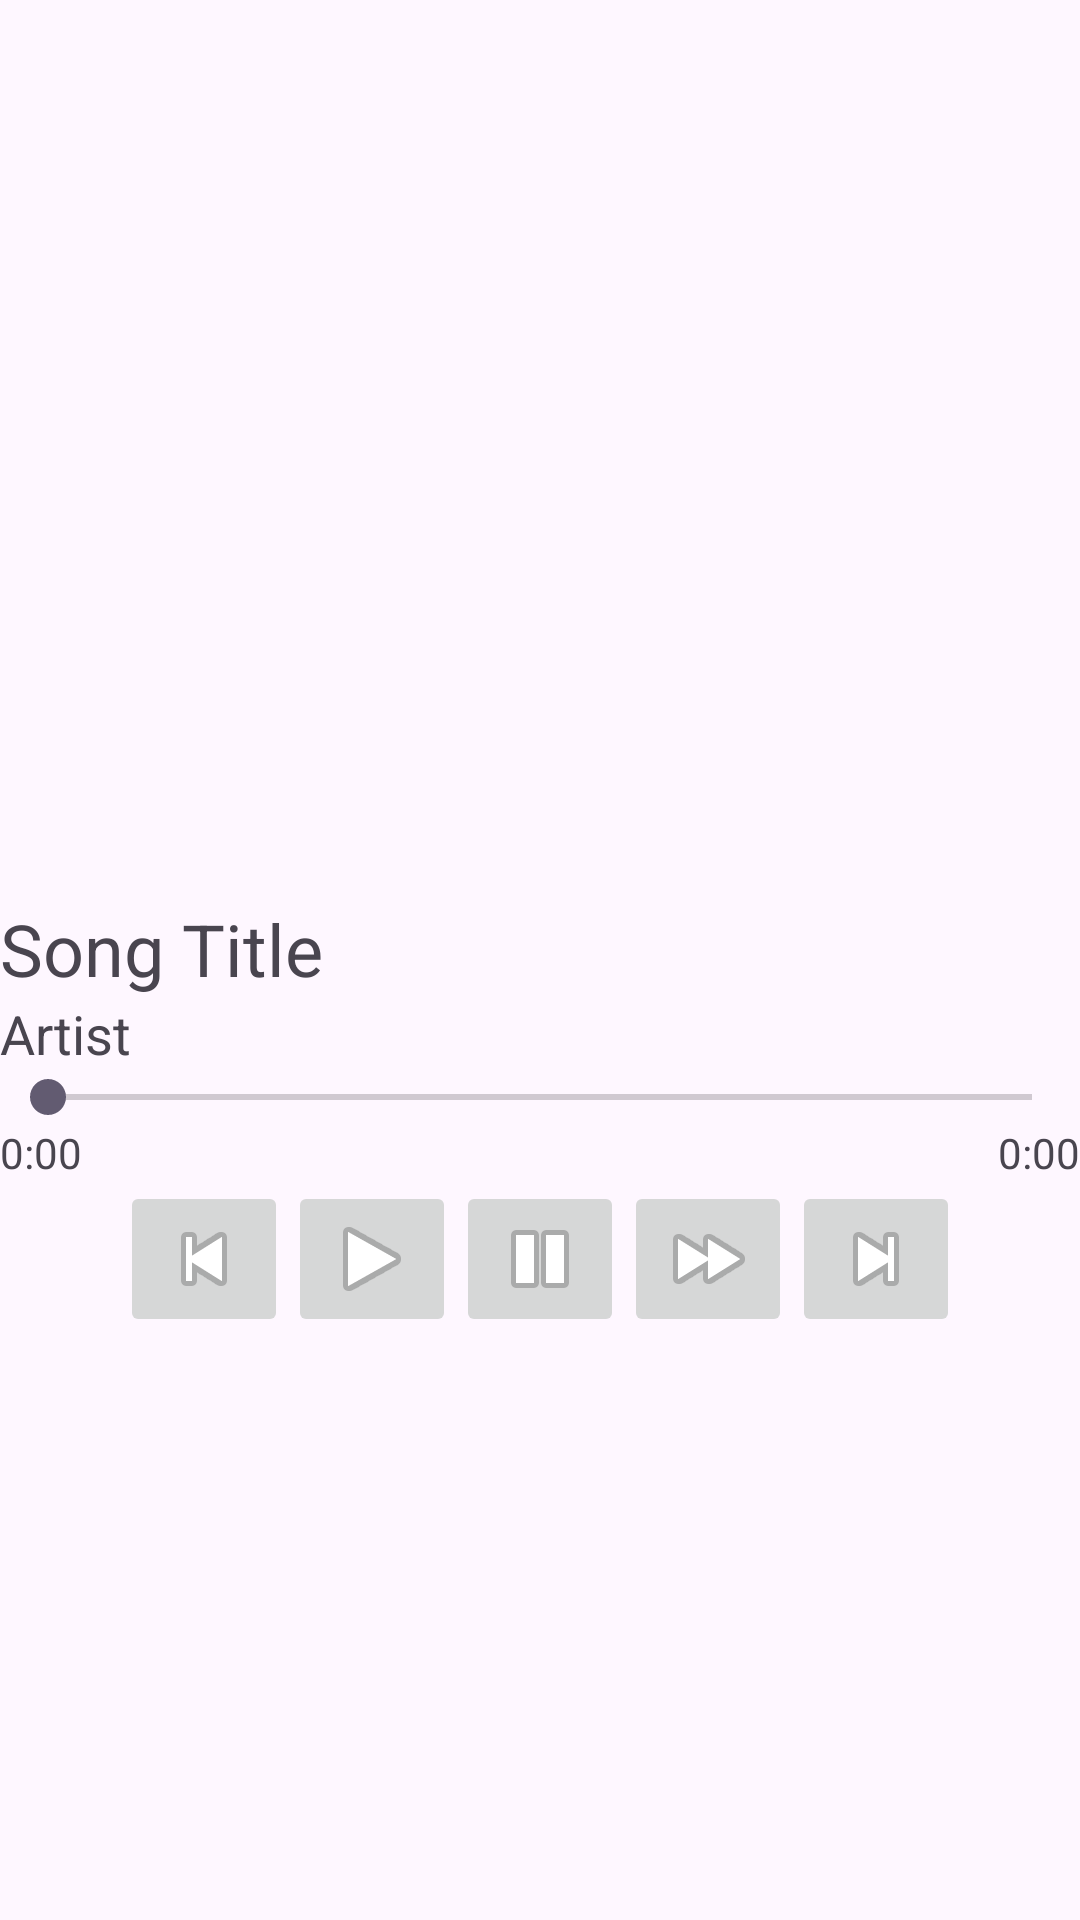

Named icons in this screenshot (1080px×1920px) and their bounding boxes, bbox(x1, y1, x2, y2):
Next: bbox(804, 1199, 948, 1319)
Pause: bbox(468, 1199, 612, 1319)
Play: bbox(300, 1199, 444, 1319)
Previous: bbox(132, 1199, 276, 1319)
